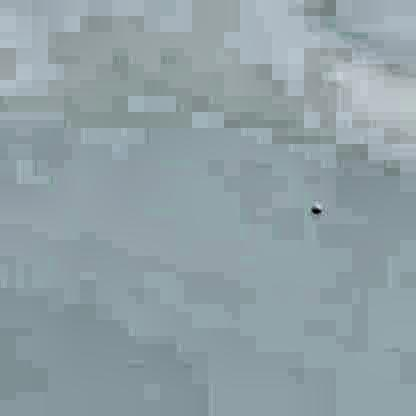golfball: (308, 198, 319, 211)
